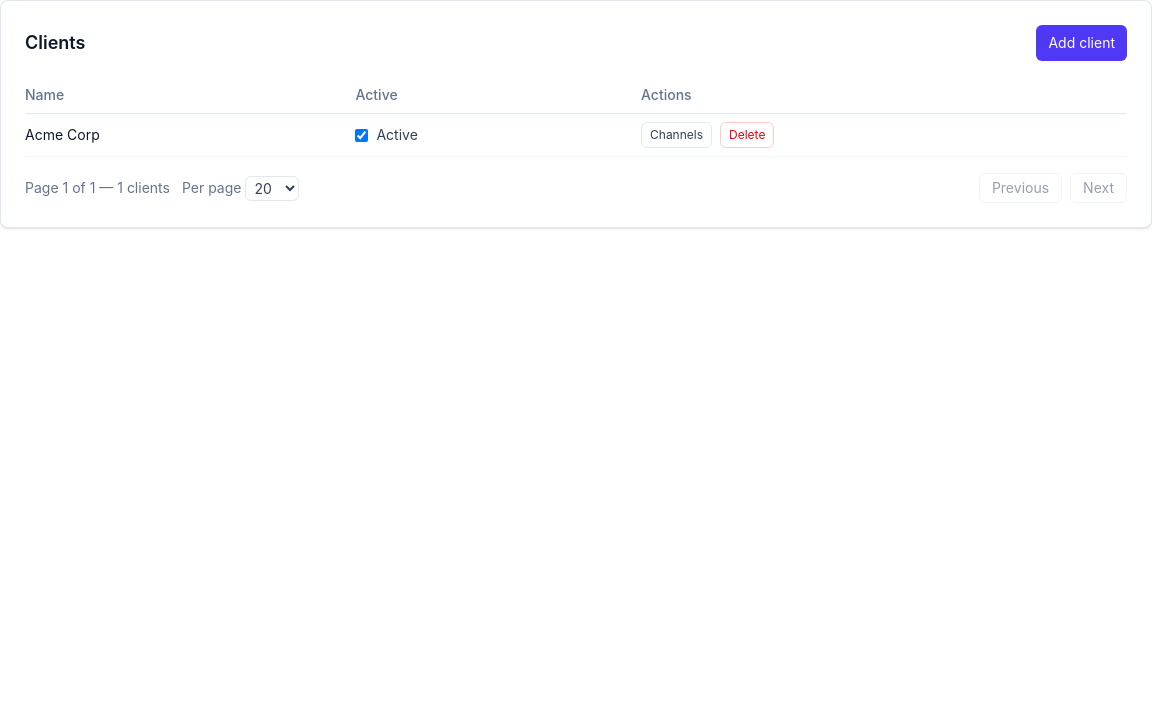
Test: FE-CHN-02: channel active toggle PATCHes only {active} › flips a channel to inactive via PATCH /channels/:id and renders the new state
Click the button "Channels": (676, 135) x1=641 y1=122 x2=712 y2=148
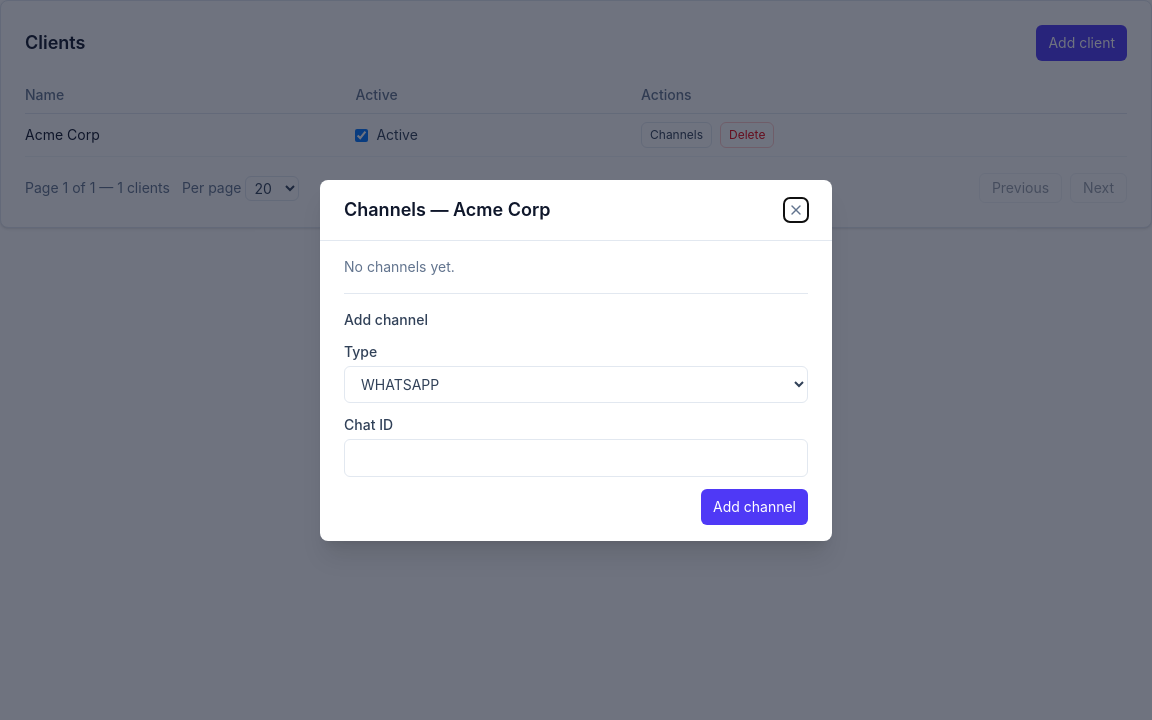
Expected: the button "Add channel" is shown, x1=701 y1=488 x2=808 y2=524
Select "TELEGRAM" in the dropdown labelled "Type": (576, 384) x1=344 y1=366 x2=808 y2=402
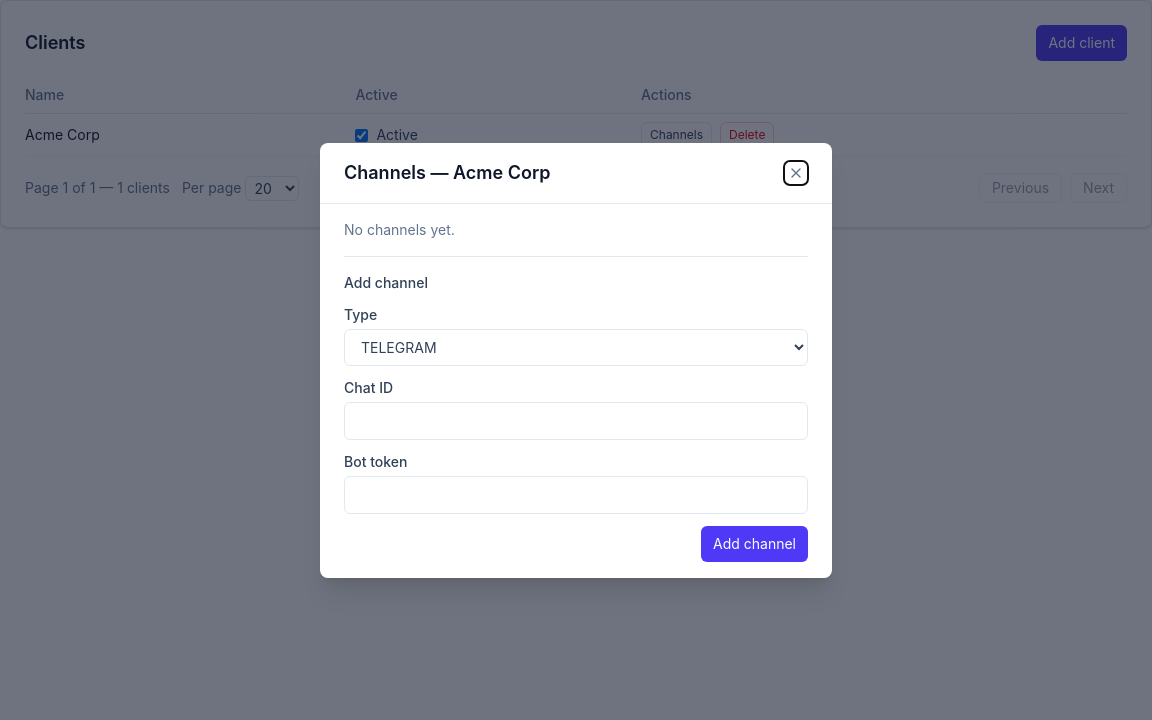
In the field labelled "Chat ID": (576, 420) x1=344 y1=402 x2=808 y2=440, type "@secops"
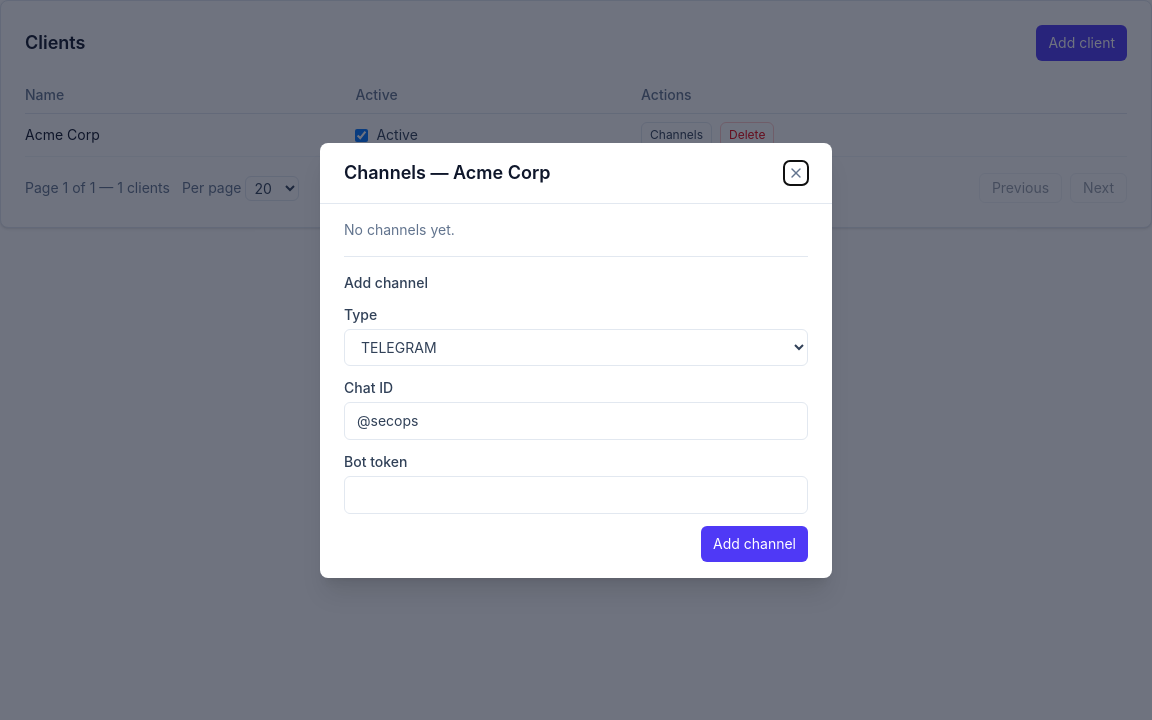
In the password field labelled "Bot token": (576, 494) x1=344 y1=476 x2=808 y2=514, type "111222:AAE-rawtoken"
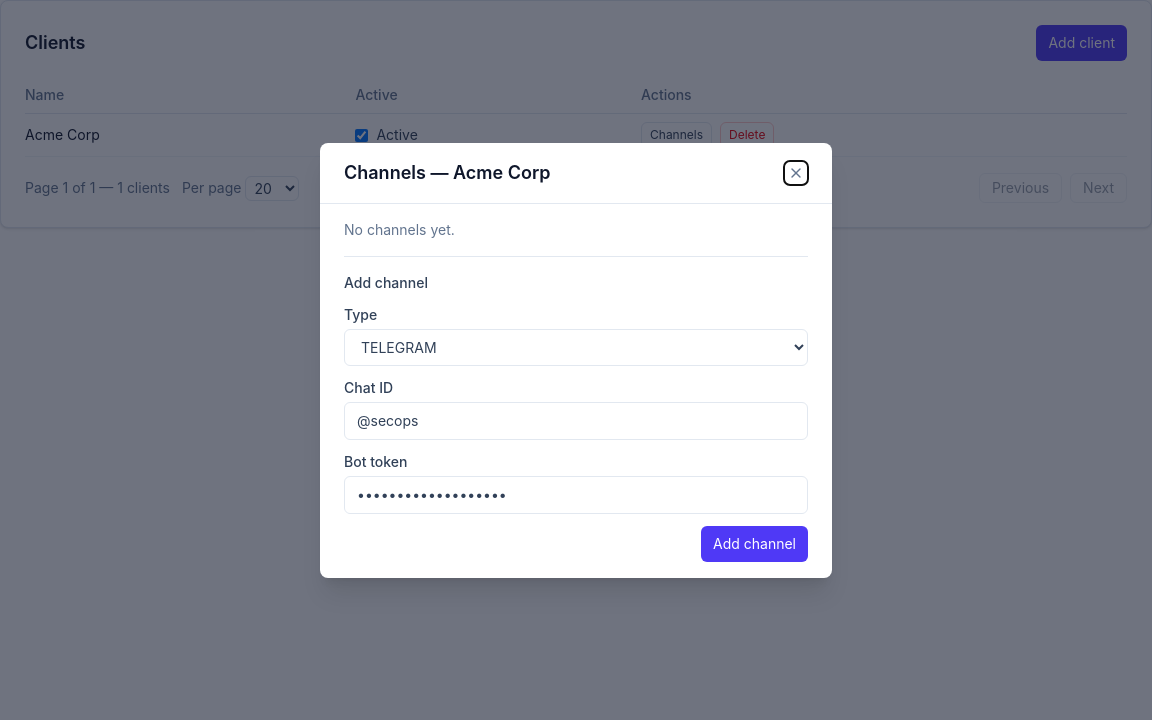
Click the button "Add channel": (754, 544) x1=701 y1=526 x2=808 y2=562
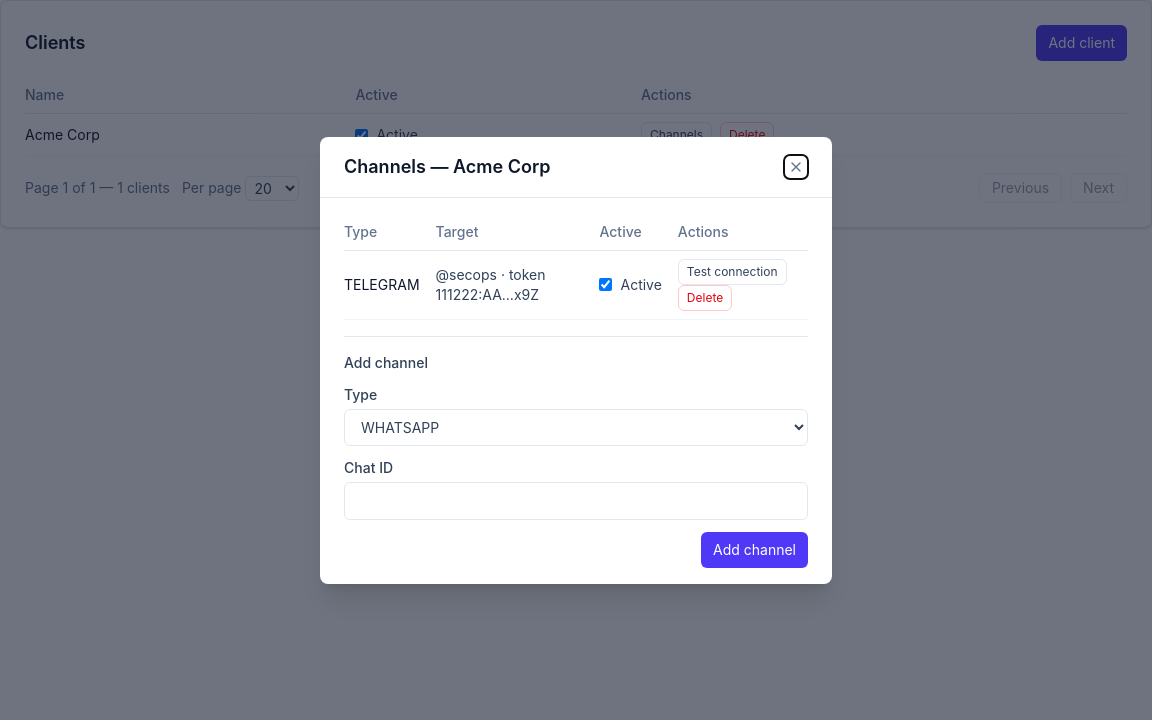
Expected: the text "@secops" is shown, x1=436 y1=266 x2=546 y2=302
Expected: the checkbox labelled "Active" is shown
Click the checkbox labelled "Active": (606, 284) x1=600 y1=278 x2=612 y2=291
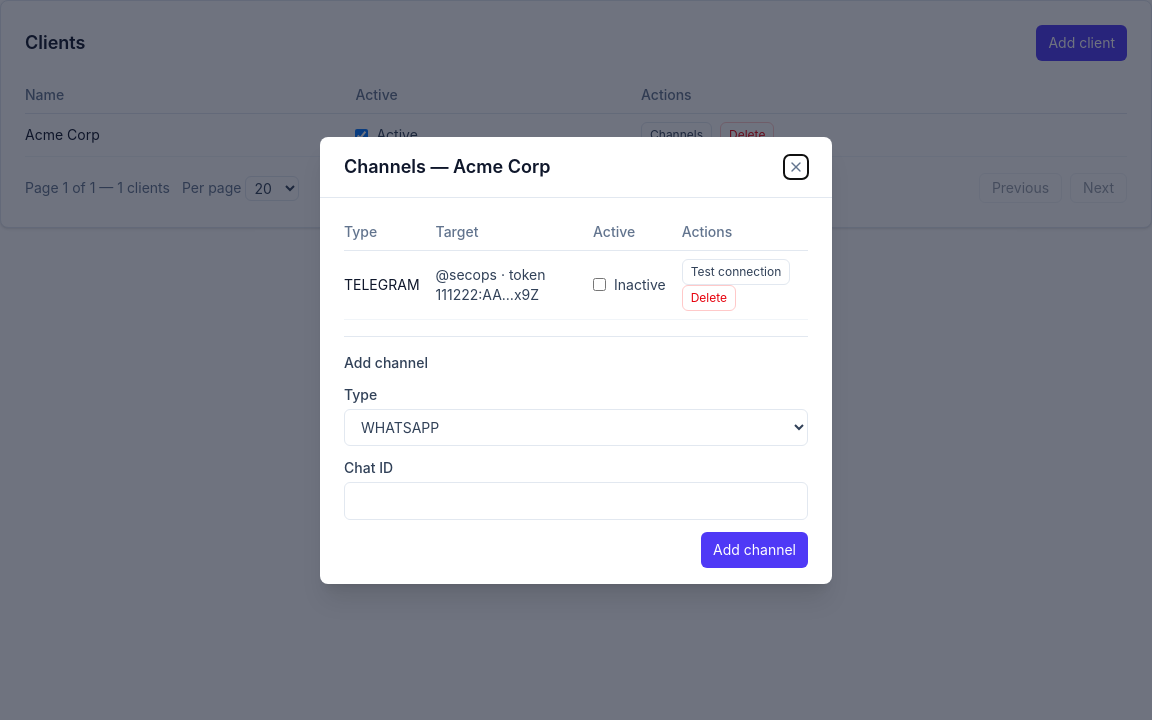
Expected: the text "Inactive" is shown, x1=593 y1=274 x2=666 y2=294
